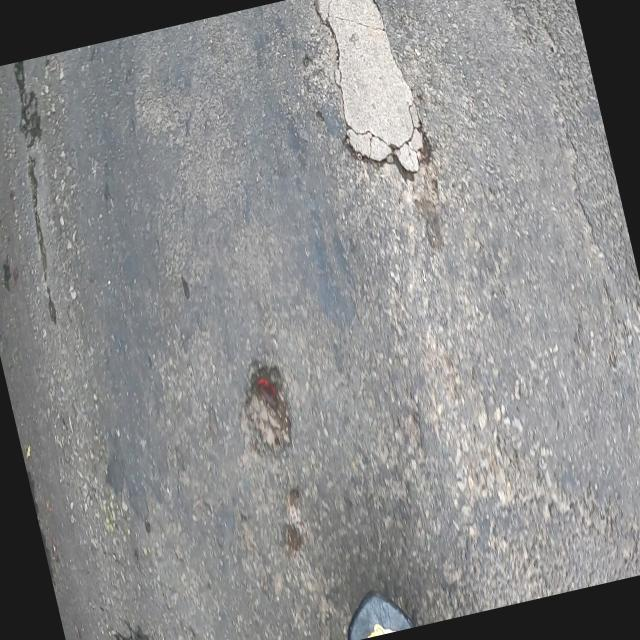Lubang: (242, 361, 291, 455)
